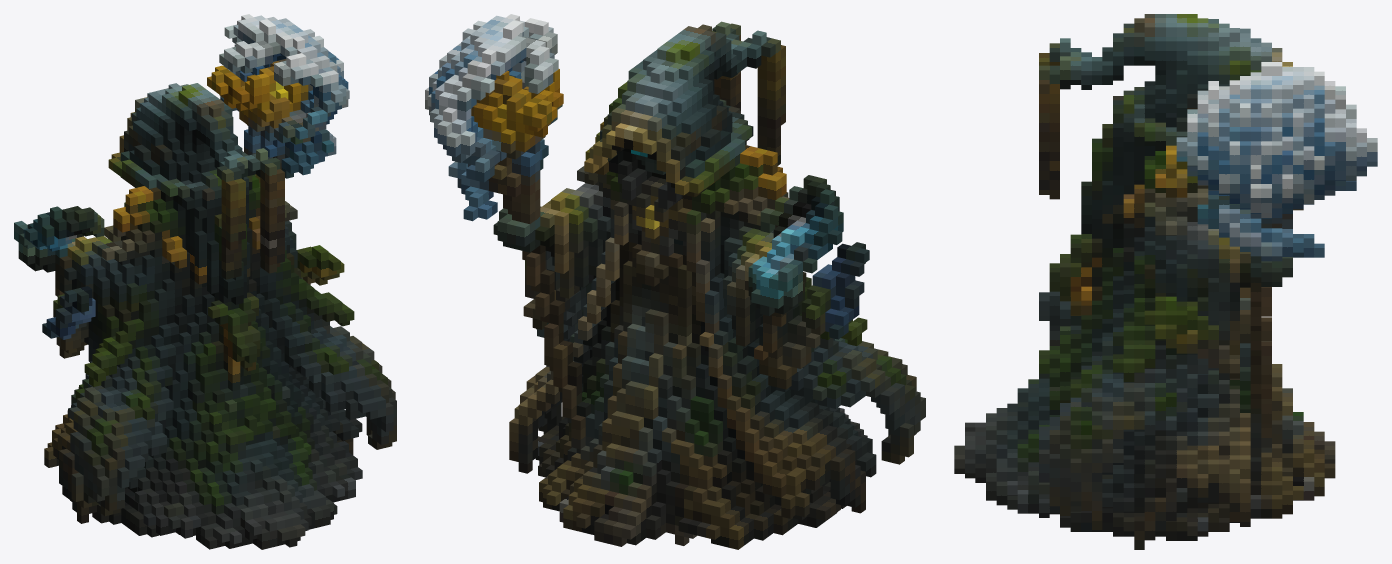
Rendered from u_mage.glb.
3 renders of one model, left to right at view 1: azimuth 30°, elevation 25°; view 2: azimuth 150°, elevation 25°; view 3: azimuth 270°, elevation 25°, orthographic. The views are drawn at different scales.
Visible parts, largest first — view 1: mage_body; view 2: mage_body; view 3: mage_body.
Boxes of the visible parts, left/top/right/bottom form: mage_body: left=14, top=14, right=396, bottom=549; mage_body: left=425, top=14, right=925, bottom=549; mage_body: left=954, top=14, right=1377, bottom=549.
Bounding box in the file's own units: 1.39 × 1.61 × 1.29.
1 material, 1 textured.
